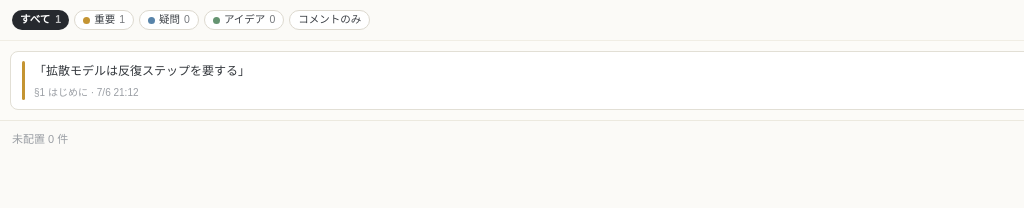
Test: AnnotationListPanel (VT-VIEW-08) › empty filter result shows the フィルタを変更してください empty state
This screenshot has width=1024, height=208.
Expected: the text "「拡散モデルは反復ステップを要する」" is shown, [34, 64, 250, 78]
What coordinates should you click on to do the following:
click the text "疑問"
I would click on:
 (170, 20)
Its box is [159, 12, 180, 28].
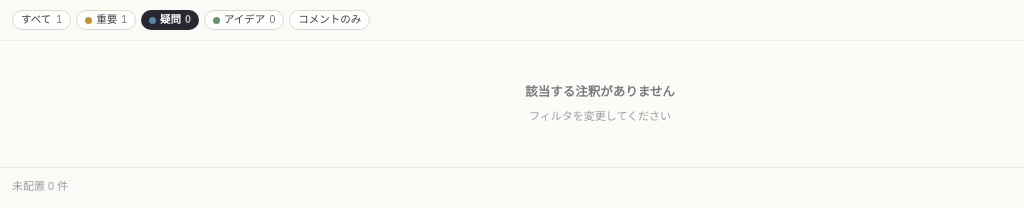
Result: the text "該当する注釈がありません" is shown at [525, 83, 675, 102]
